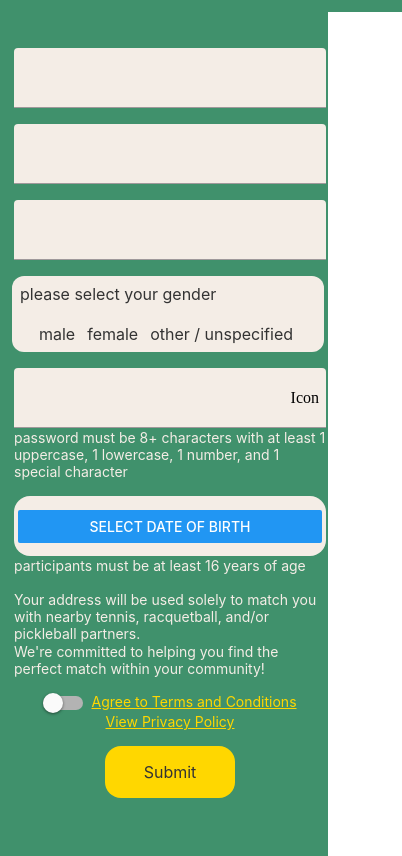
Test: RegisterForm › shows error message when password is provided but confirm password is left blank
Note: confirm password is only displayed when a first password has been supplied
In the 4th password field with test id "textInputComp": (170, 398) [14,368,326,428], type "ValidP@ssword1"
(page scrolled)
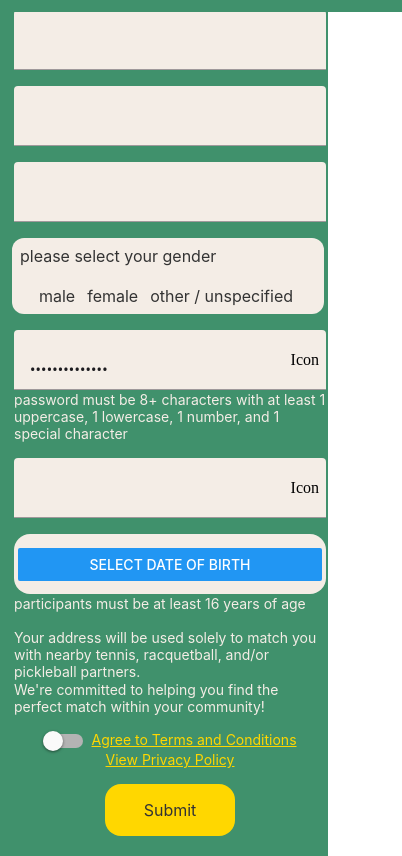
Click the text "Submit": (170, 810) [144,800,196,820]
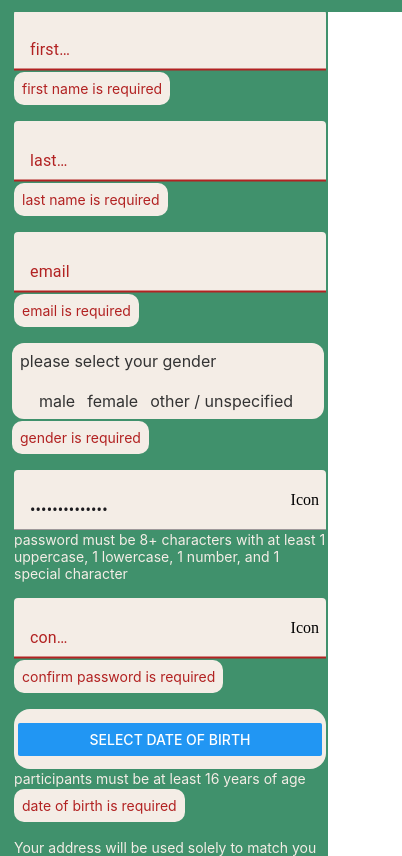
Result: the text "confirm password is required" is shown at [22,668,215,685]
